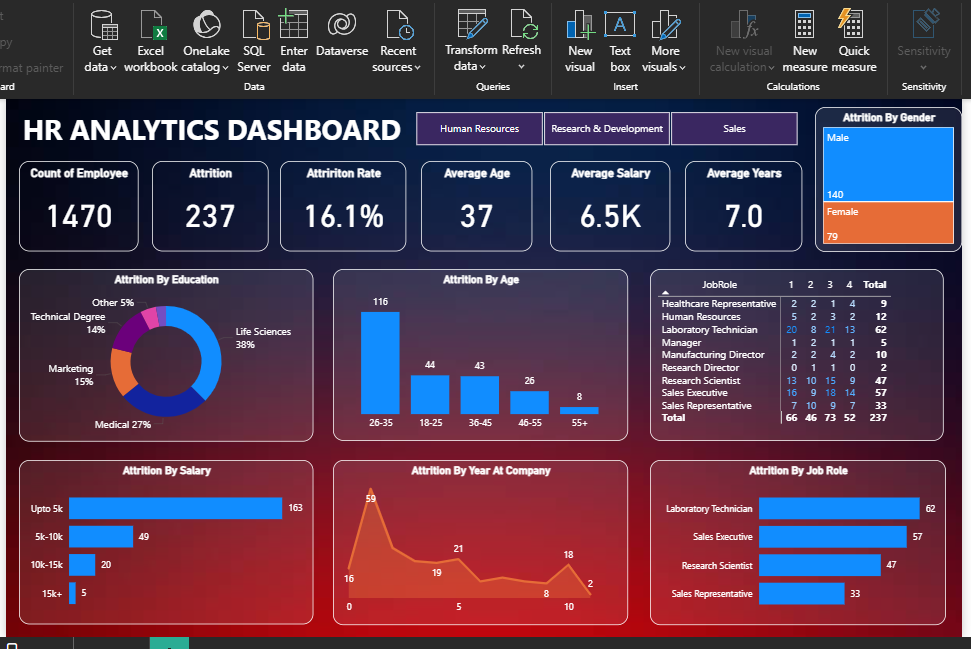

The dashboard page shown, as its layout file describes it:
{"tool":"powerbi","page":{"name":"Page 1","canvas":[1280,720],"ordinal":0},"visuals":[{"type":"card","title":"Count of Employee","fields":{"Values":["CountNonNull(HR_Analytics.EmpID)"]},"box":[17.9,82.6,159.7,121.1],"z":0},{"type":"card","title":"Attrition","fields":{"Values":["Sum(HR_Analytics.AttritionCount)"]},"box":[195.4,82.6,155.5,121.1],"z":1000},{"type":"card","title":"Average Age","fields":{"Values":["Avg(HR_Analytics.Age)"]},"box":[556,82.6,148.6,121.1],"z":2000},{"type":"card","title":"Attririton Rate","fields":{"Values":["HR_Analytics.AttritionRate"]},"box":[366.1,82.6,169.3,121.1],"z":3000},{"type":"card","title":"Average Salary","fields":{"Values":["Avg(HR_Analytics.MonthlyIncome)"]},"box":[728.1,82.6,161,121.1],"z":4000},{"type":"card","title":"Average Years","fields":{"Values":["Avg(HR_Analytics.YearsAtCompany)"]},"box":[908.4,82.6,156.9,121.1],"z":5000},{"type":"donutChart","title":"Attrition By Education","fields":{"Y":["Sum(HR_Analytics.AttritionCount)"],"Category":["HR_Analytics.EducationField"]},"box":[17.9,227.1,393.6,231.2],"z":6000},{"type":"columnChart","title":"Attrition By Age","fields":{"Category":["HR_Analytics.AgeGroup"],"Y":["Sum(HR_Analytics.AttritionCount)"]},"box":[437.6,227.5,394.8,230.2],"z":7000},{"type":"pivotTable","fields":{"Rows":["HR_Analytics.JobRole"],"Columns":["HR_Analytics.JobSatisfaction"],"Values":["Sum(HR_Analytics.AttritionCount)"]},"box":[861.9,227.5,393.5,230.2],"z":8000},{"type":"barChart","title":"Attrition By Salary","fields":{"Category":["HR_Analytics.SalarySlab"],"Y":["Sum(HR_Analytics.AttritionCount)"]},"box":[17.9,483.1,393.6,220.2],"z":9000},{"type":"barChart","title":"Attrition By Job Role","fields":{"Category":["HR_Analytics.JobRole"],"Y":["Sum(HR_Analytics.AttritionCount)"]},"box":[861.9,483.1,396.1,220.8],"z":10000},{"type":"areaChart","title":"Attrition By Year At Company","fields":{"Category":["HR_Analytics.YearsAtCompany"],"Y":["Sum(HR_Analytics.AttritionCount)"]},"box":[437.6,483.1,394.8,220.8],"z":11000},{"type":"treemap","title":"Attrition By Gender","fields":{"Group":["HR_Analytics.Gender"],"Values":["Sum(HR_Analytics.AttritionCount)"]},"box":[1082.7,10.7,196.7,194.1],"z":12000},{"type":"textbox","box":[17.1,10,538.6,58.6],"z":13000},{"type":"slicer","fields":{"Values":["HR_Analytics.Department"]},"box":[523,11,560.2,57.8],"z":14000}]}

Visuals, with their boxes in screenshot pixels (x1, y1, x2, y2):
"Count of Employee" card: rect(16, 160, 135, 251)
"Attrition" card: rect(149, 160, 265, 251)
"Average Age" card: rect(418, 160, 530, 251)
"Attririton Rate" card: rect(276, 160, 403, 251)
"Average Salary" card: rect(547, 160, 668, 251)
"Average Years" card: rect(682, 160, 799, 251)
"Attrition By Education" donutChart: rect(16, 269, 310, 441)
"Attrition By Age" columnChart: rect(330, 269, 625, 441)
pivotTable - HR_Analytics.JobRole x HR_Analytics.JobSatisfaction: rect(647, 269, 942, 441)
"Attrition By Salary" barChart: rect(16, 460, 310, 625)
"Attrition By Job Role" barChart: rect(647, 460, 944, 625)
"Attrition By Year At Company" areaChart: rect(330, 460, 625, 625)
"Attrition By Gender" treemap: rect(813, 107, 960, 252)
textbox: rect(15, 106, 418, 150)
slicer - HR_Analytics.Department: rect(394, 107, 813, 150)
